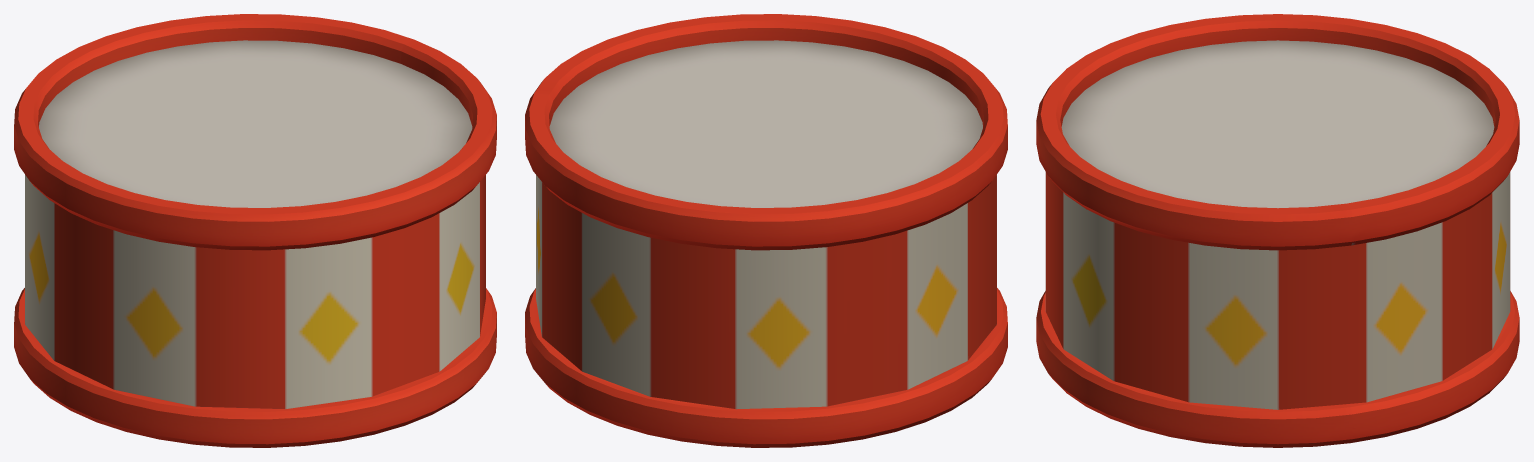
Rendered from drum_red.fbx.
3 views of the same model, side by side, from view 1: azimuth 30°, elevation 25°; view 2: azimuth 150°, elevation 25°; view 3: azimuth 270°, elevation 25° (orthographic).
Visible parts, largest first — view 1: drum_red; view 2: drum_red; view 3: drum_red.
Boxes of the visible parts, bbox=[...] form: drum_red: bbox=[14, 14, 496, 447]; drum_red: bbox=[525, 14, 1007, 447]; drum_red: bbox=[1036, 14, 1519, 447].
Size of the model in its own units: 1.2 by 0.6399 by 1.2.
